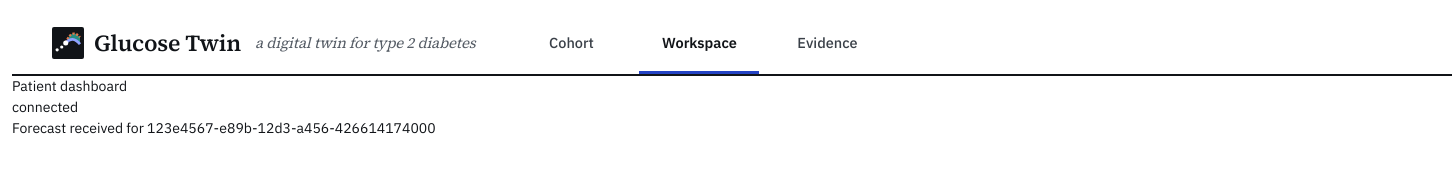
Test: Connected patient to Evidence and Cohort cancellation lifecycle › renders Cohort and consumes cancel rejection after aborting active stream without error
Check: the text with test id "status" reads "connected", box [12,98,78,116]
Step 1. Click the link "Cohort" → (572, 43), box [512,12,632,74]
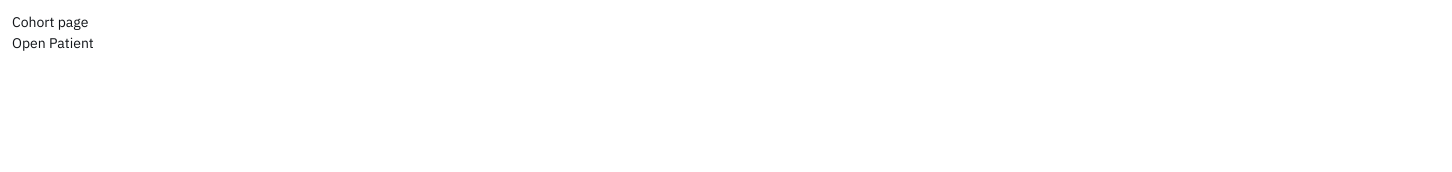
Check: the heading "Cohort page" is shown, box [12,13,88,31]
